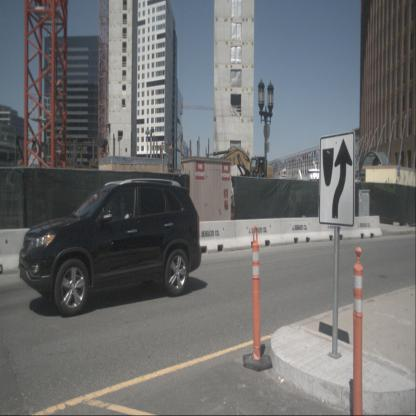barrier: (233, 216, 284, 250), (189, 221, 238, 254), (0, 228, 35, 274), (278, 216, 318, 245), (315, 215, 353, 242), (349, 216, 382, 238)
cone: (343, 247, 373, 415), (243, 225, 273, 372)
